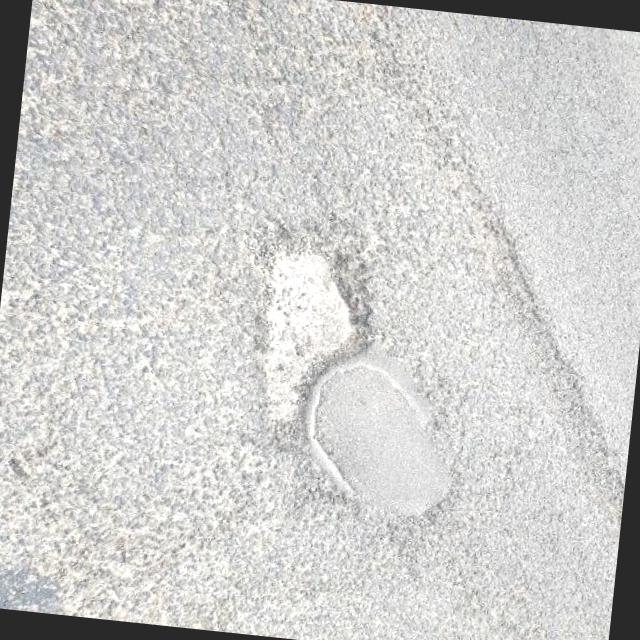pothole: (218, 222, 388, 444)
